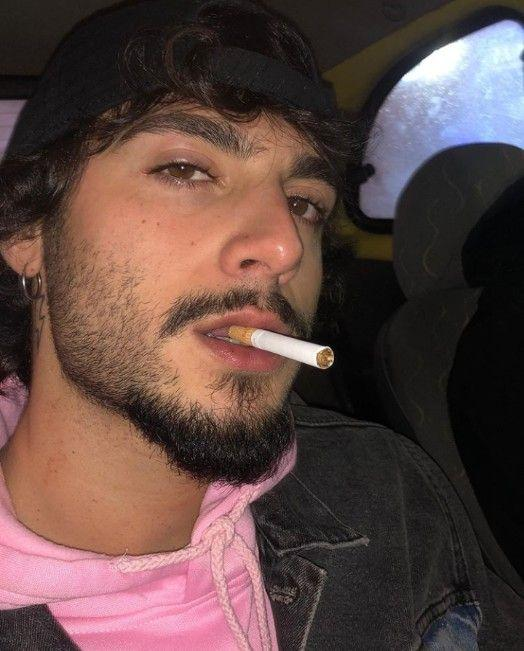cigarette: (227, 325, 336, 369)
